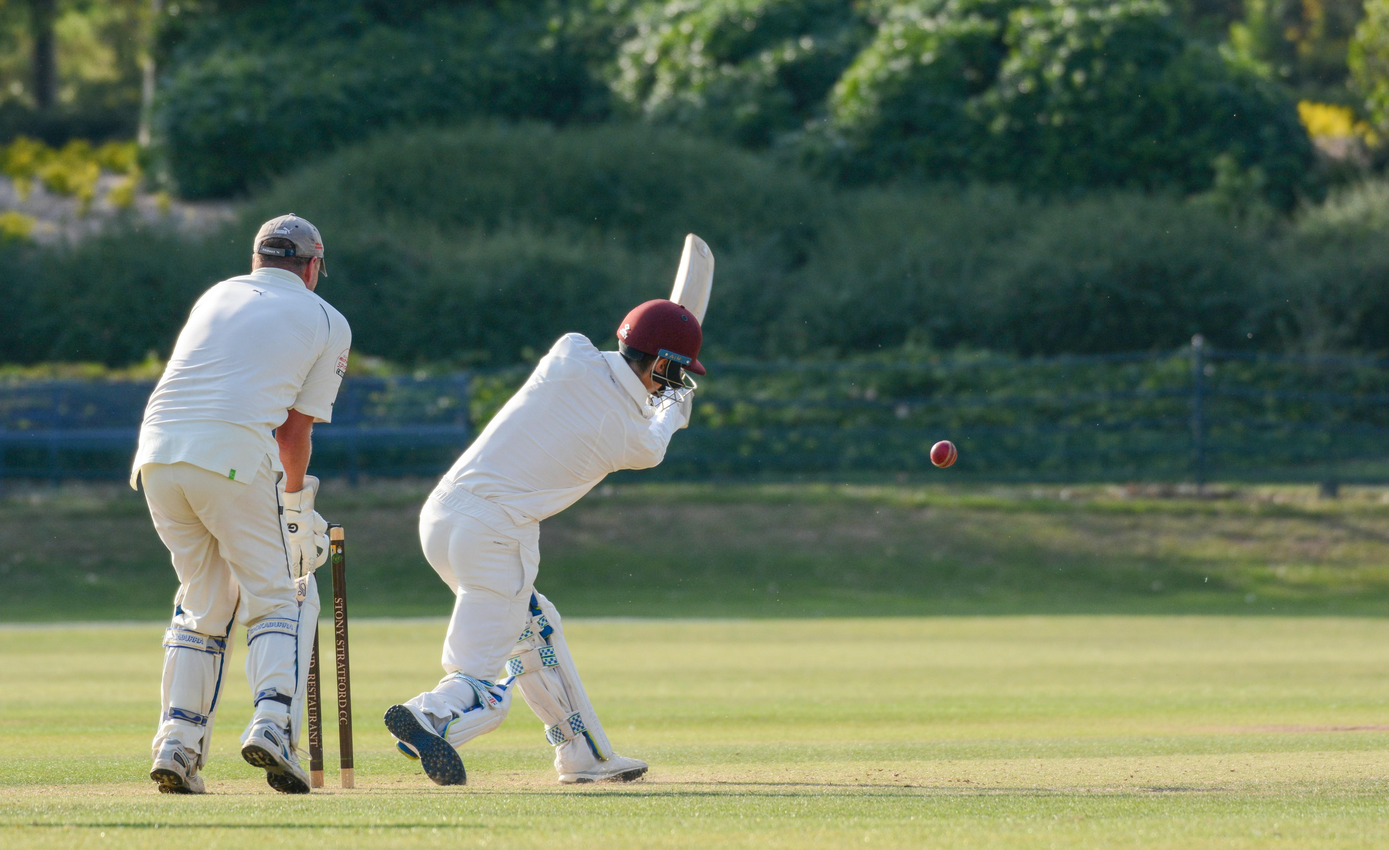batsman: (413, 306, 765, 776)
